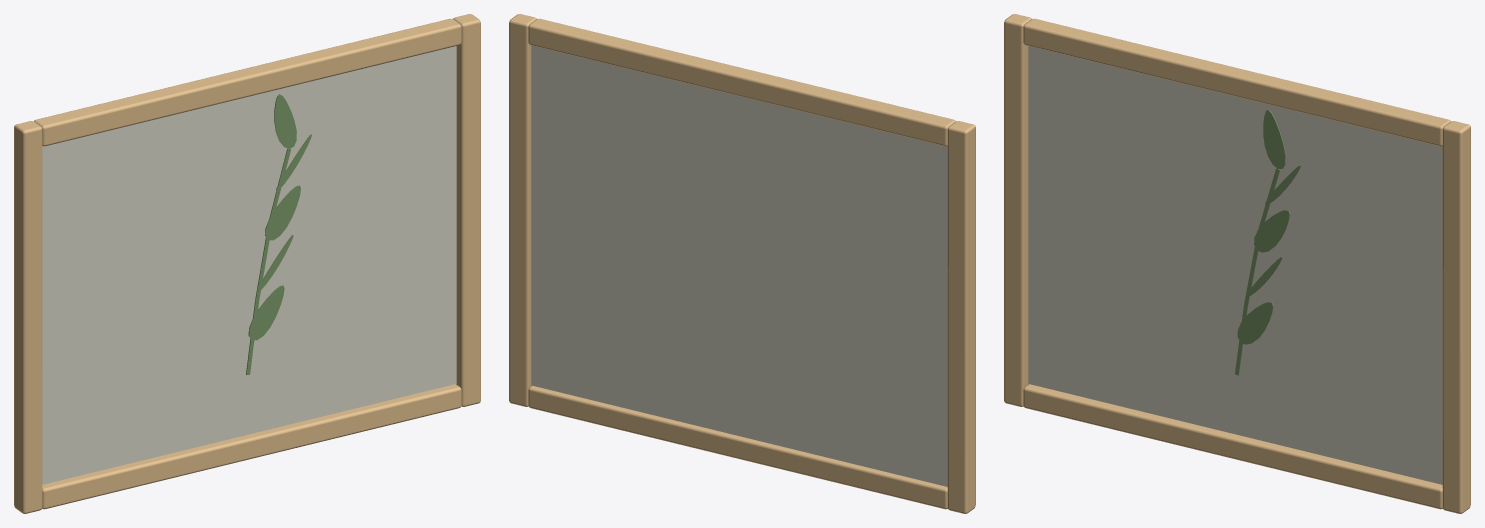
File: wall_art.glb
The picture shows the model from 3 angles, left to right: view 1: azimuth 30°, elevation 25°; view 2: azimuth 150°, elevation 25°; view 3: azimuth 330°, elevation 25°; orthographic projection.
Visible parts, largest first — view 1: wall_art; view 2: wall_art; view 3: wall_art.
Part boxes in pixels (left/top/right/bottom): wall_art: left=14, top=14, right=480, bottom=513; wall_art: left=509, top=14, right=975, bottom=513; wall_art: left=1004, top=14, right=1470, bottom=513.
Bounding box in the file's own units: 0.5 × 0.4 × 0.02.
